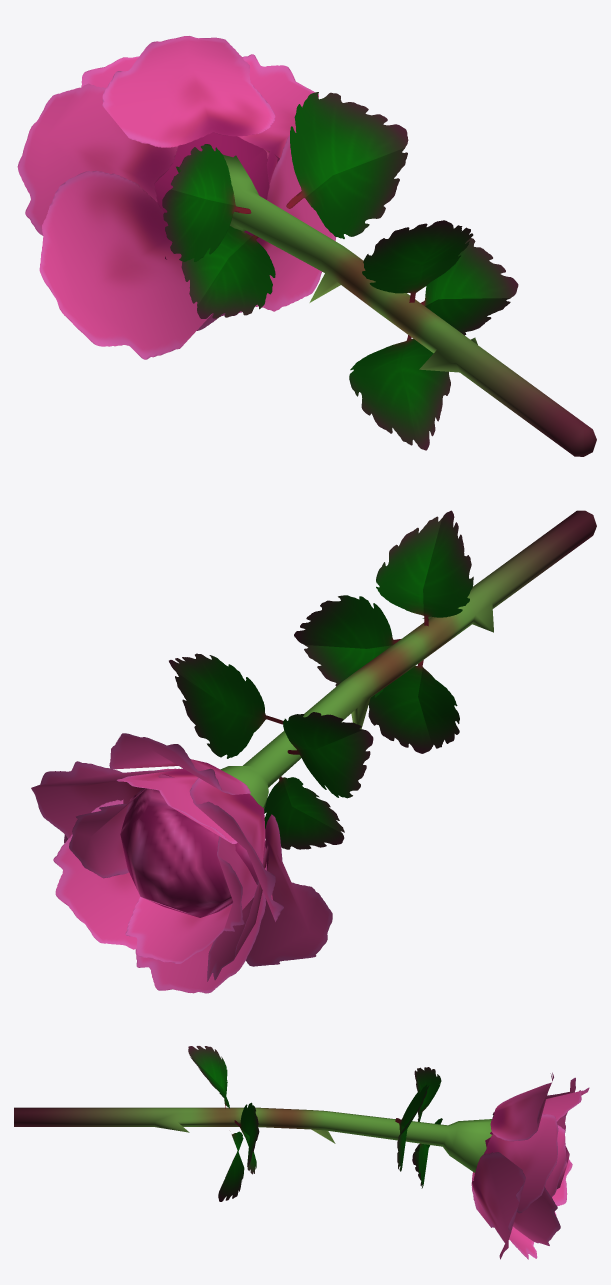
File: SM_Rose_Pink_Open.fbx
3 renders of one model, top to bottom at view 1: azimuth 30°, elevation 25°; view 2: azimuth 150°, elevation 25°; view 3: azimuth 270°, elevation 25°, orthographic. The views are drawn at different scales.
Parts seen in each view (by area): view 1: Rose_Pink_Open; view 2: Rose_Pink_Open; view 3: Rose_Pink_Open.
Part boxes in pixels (x1,y1,x2,y2): Rose_Pink_Open: (17,36,596,456); Rose_Pink_Open: (31,510,596,993); Rose_Pink_Open: (14,1046,589,1259).
Size of the model in its own units: 50.21 by 50.94 by 127.
